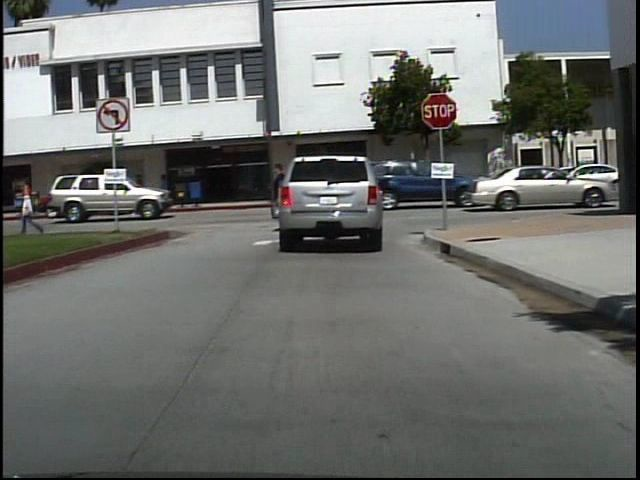person: (14, 172, 51, 240), (266, 159, 296, 238), (130, 172, 153, 210), (166, 173, 167, 205)
